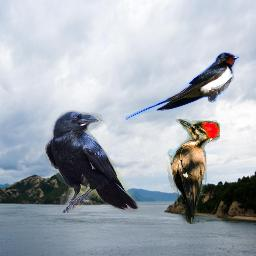Crow: (45, 110, 140, 213)
Swallow: (124, 52, 239, 120)
Woodpecker: (166, 119, 220, 224)
